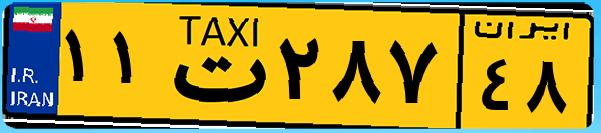1: (57, 26, 110, 100), (110, 28, 158, 98)
2: (270, 28, 330, 110)
4: (475, 38, 525, 113)
7: (385, 28, 445, 110)
8: (330, 28, 385, 110), (525, 38, 570, 115)
ت: (158, 12, 270, 120)
